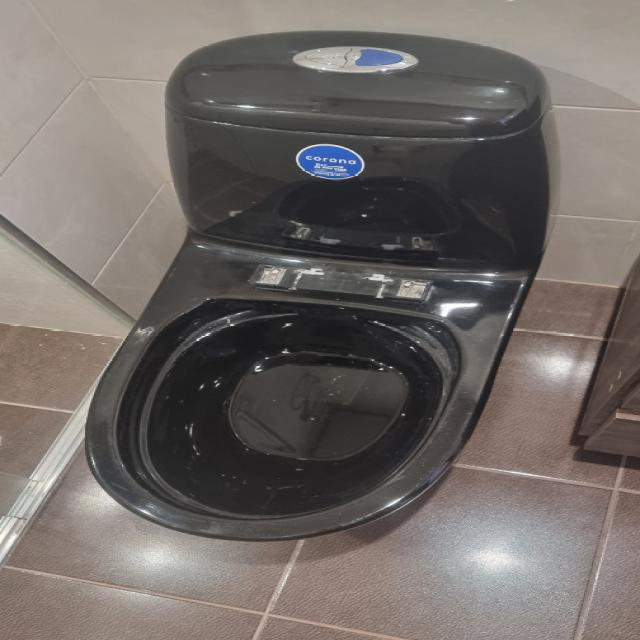toilet: (76, 26, 568, 554)
